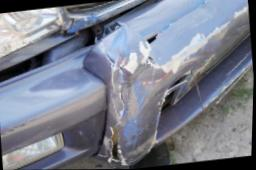Bumper: (75, 6, 256, 170)
